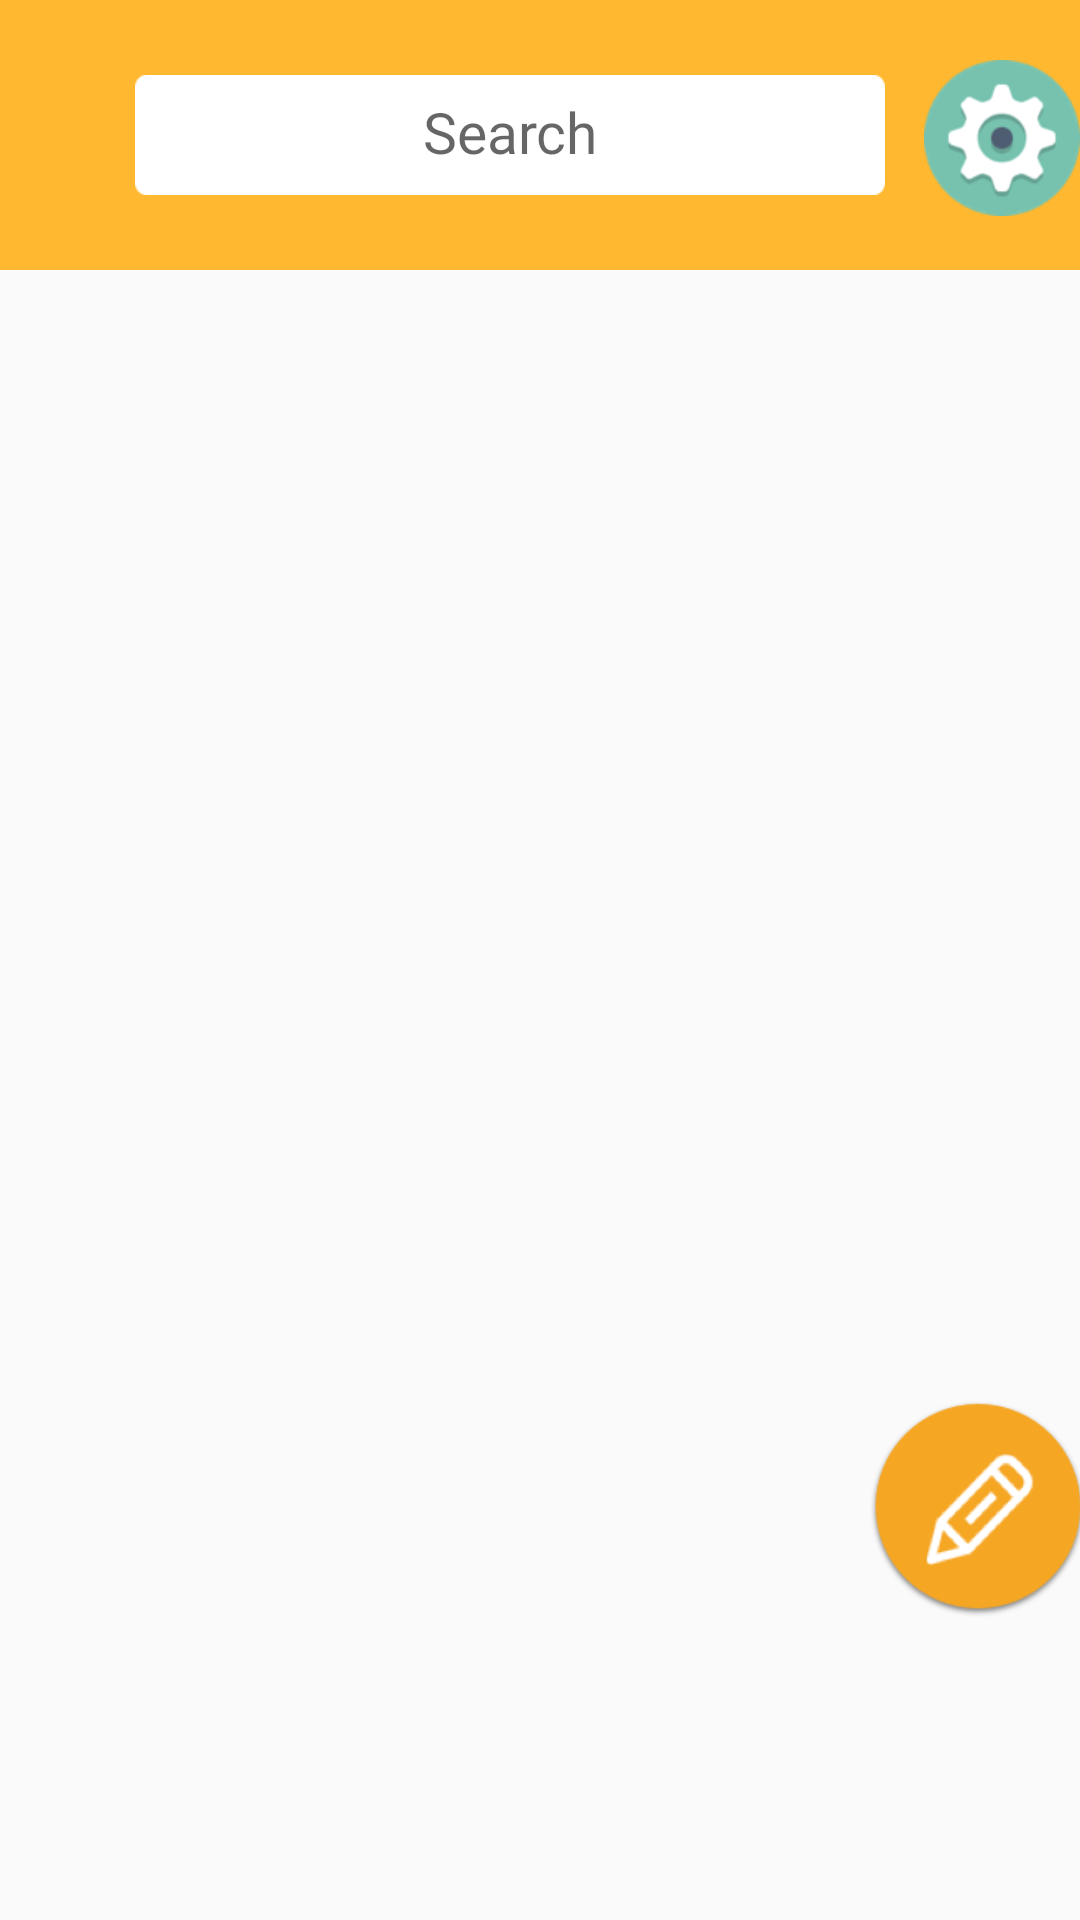

Icon click points for this 1080px×1920px phone screenshot, format [x,y]:
setting: [1002,138]
